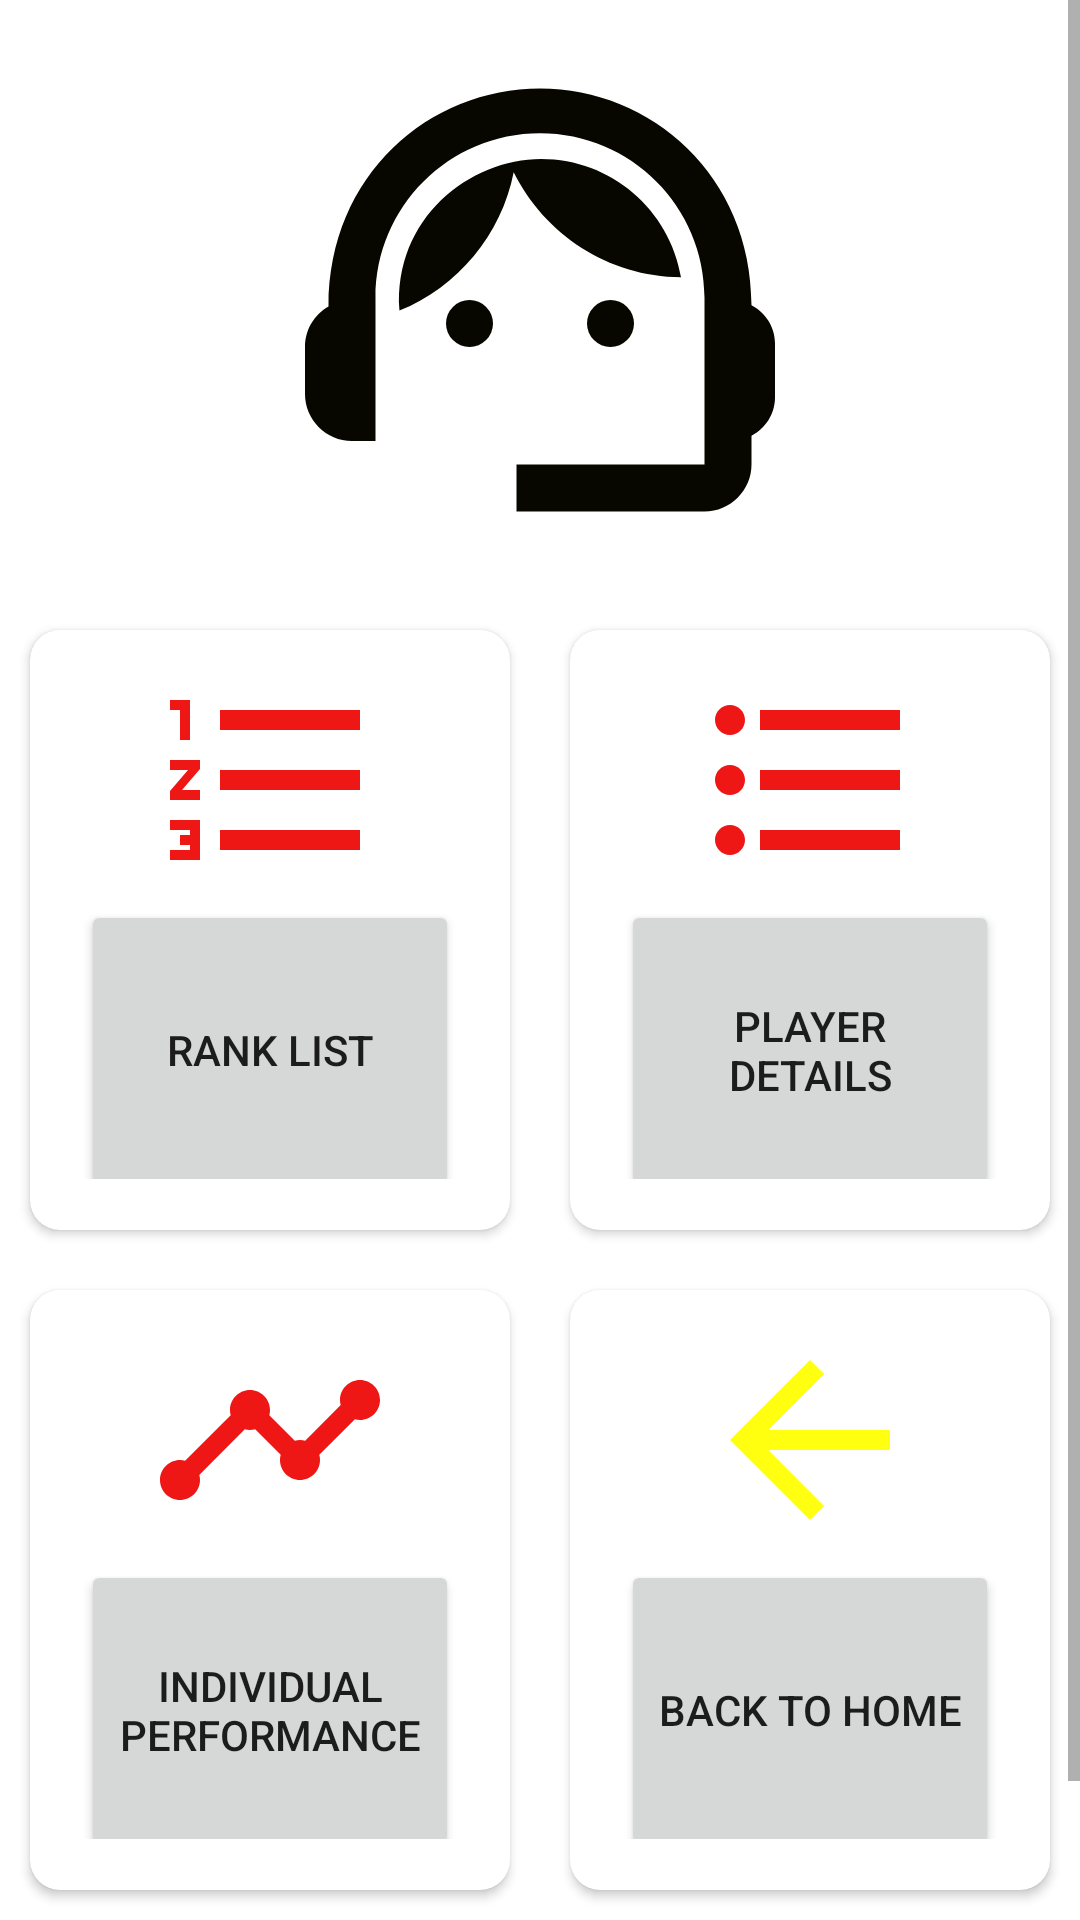

Point at icon controls on the screen. Image size 1080 x 1920, points as (x,y).
backp: (810,1440)
listp: (265,780)
